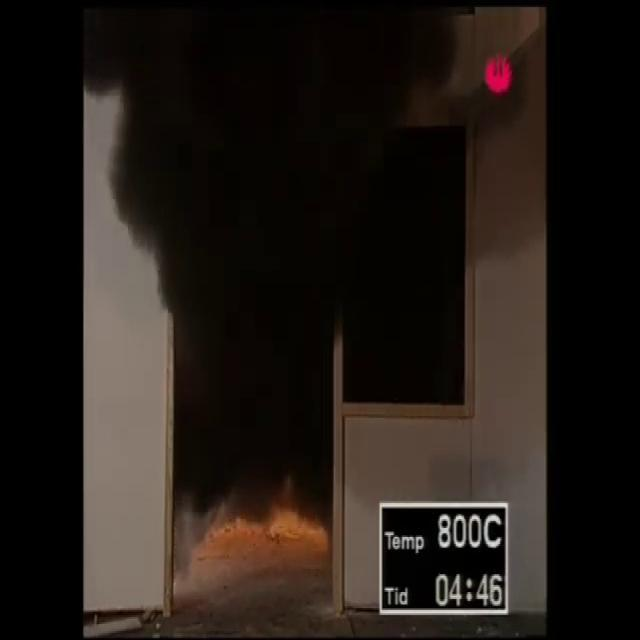Smoke: (90, 47, 462, 452)
